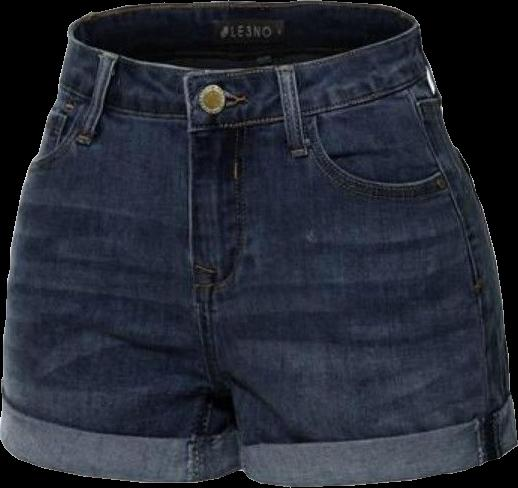Hemline: (237, 441, 517, 487), (0, 436, 240, 483)
Pantleg: (186, 0, 517, 485), (0, 0, 237, 482)
Waistline: (56, 67, 431, 129), (66, 21, 419, 76)
